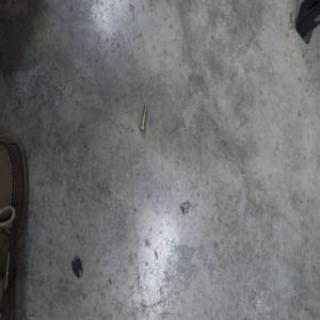Bolttrack_idkeyframe: (137, 104, 147, 133)
